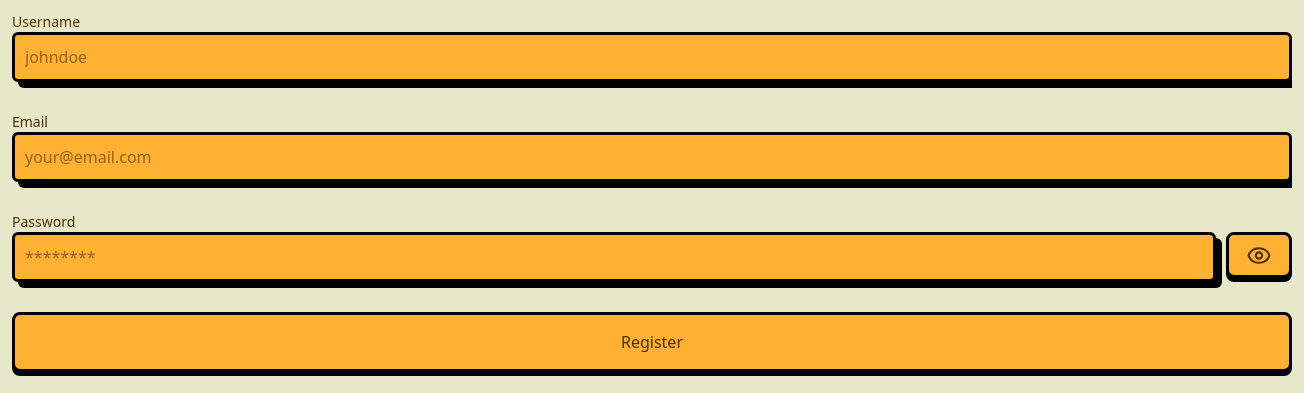
Test: RegisterForm › shows an error message if the backend returns an error
In the field labelled "Username": (652, 57) [12,32,1292,82], type "testuser"
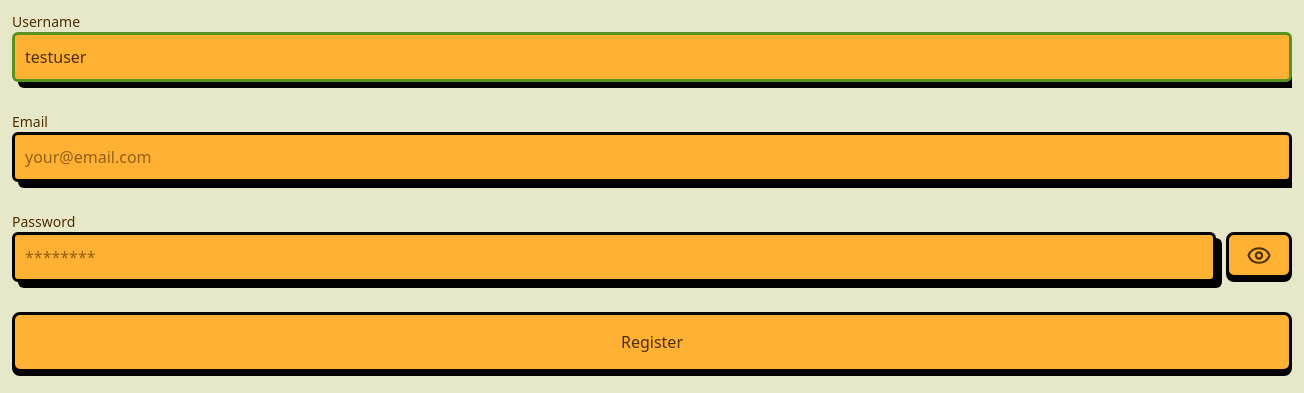
In the field labelled "Email": (652, 157) [12,132,1292,182], type "test@example.com"
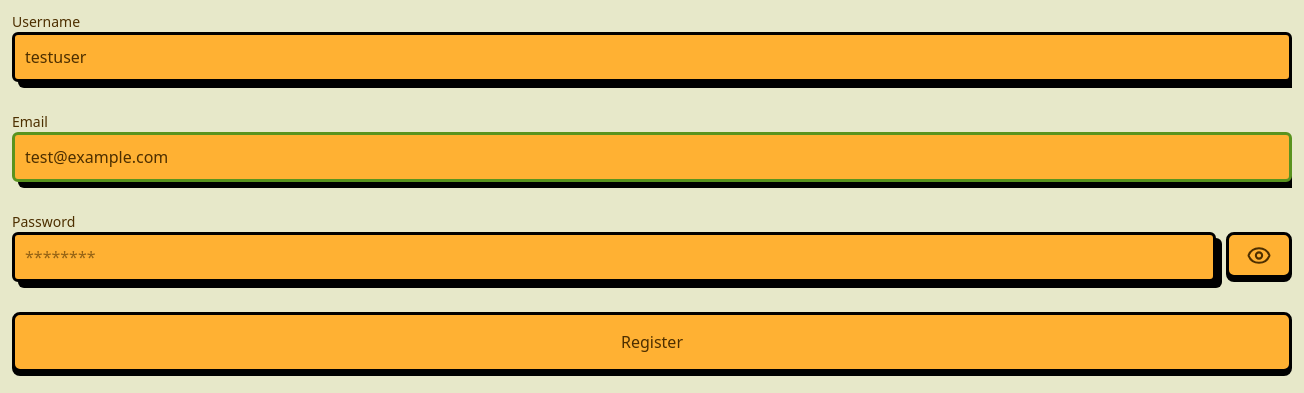
In the password field labelled "Password": (614, 257) [12,232,1216,282], type "Password123"
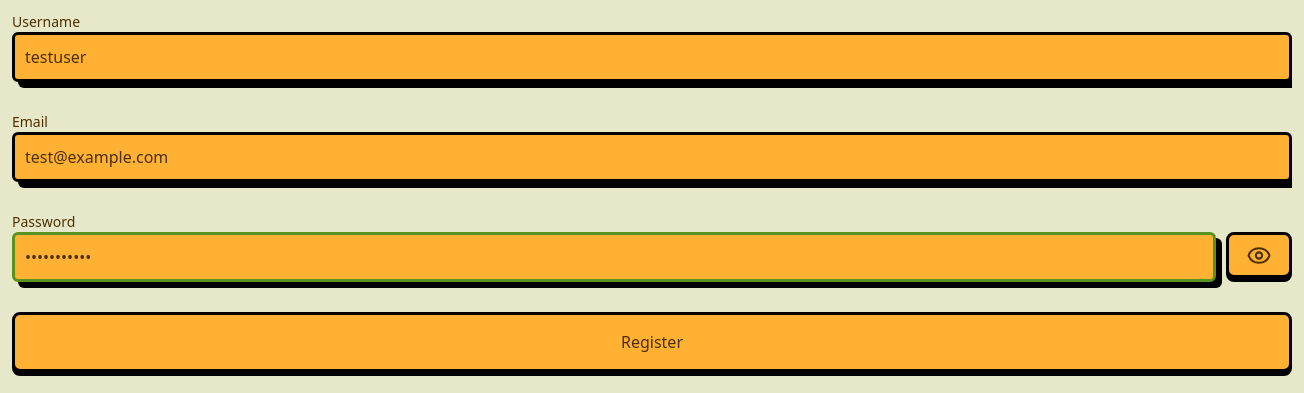
Click the button "Register": (652, 342) [12,312,1292,372]
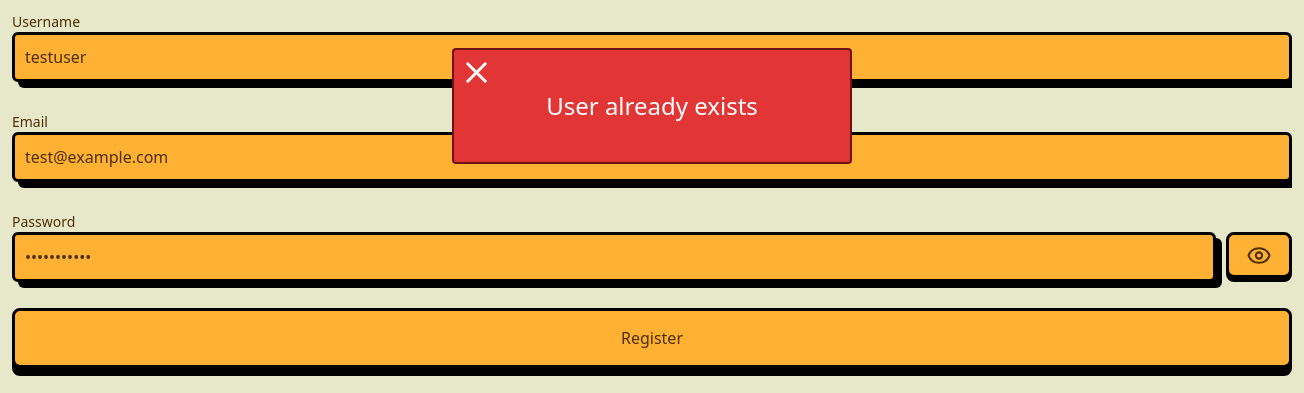
Result: the text "User already exists" is shown at [546,90,758,122]
